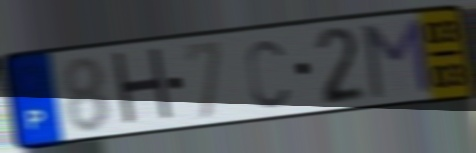2: (312, 25, 368, 108)
7: (182, 39, 227, 121)
8: (59, 53, 113, 135)
C: (243, 37, 292, 111)
H: (108, 44, 178, 131)
M: (361, 15, 435, 102)
